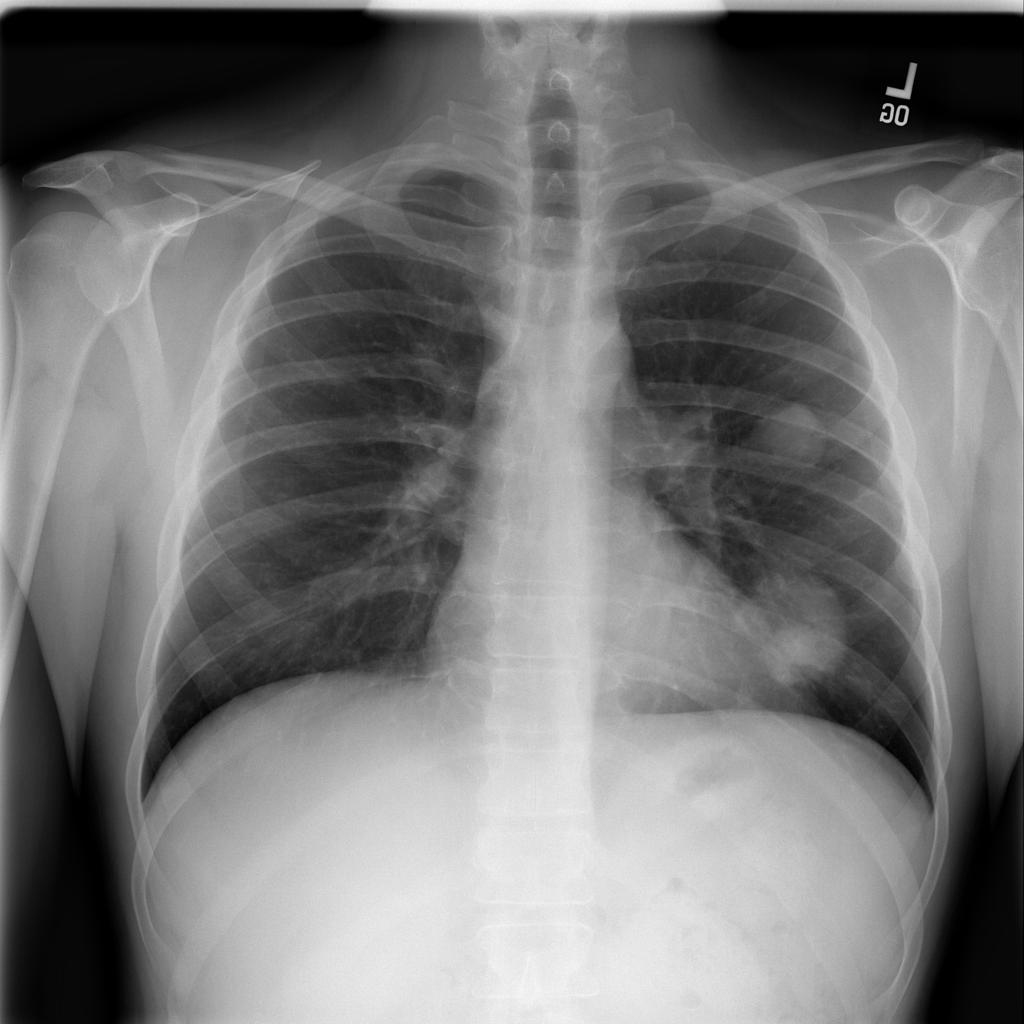nodule: (717, 565, 867, 703), (734, 382, 848, 494)
